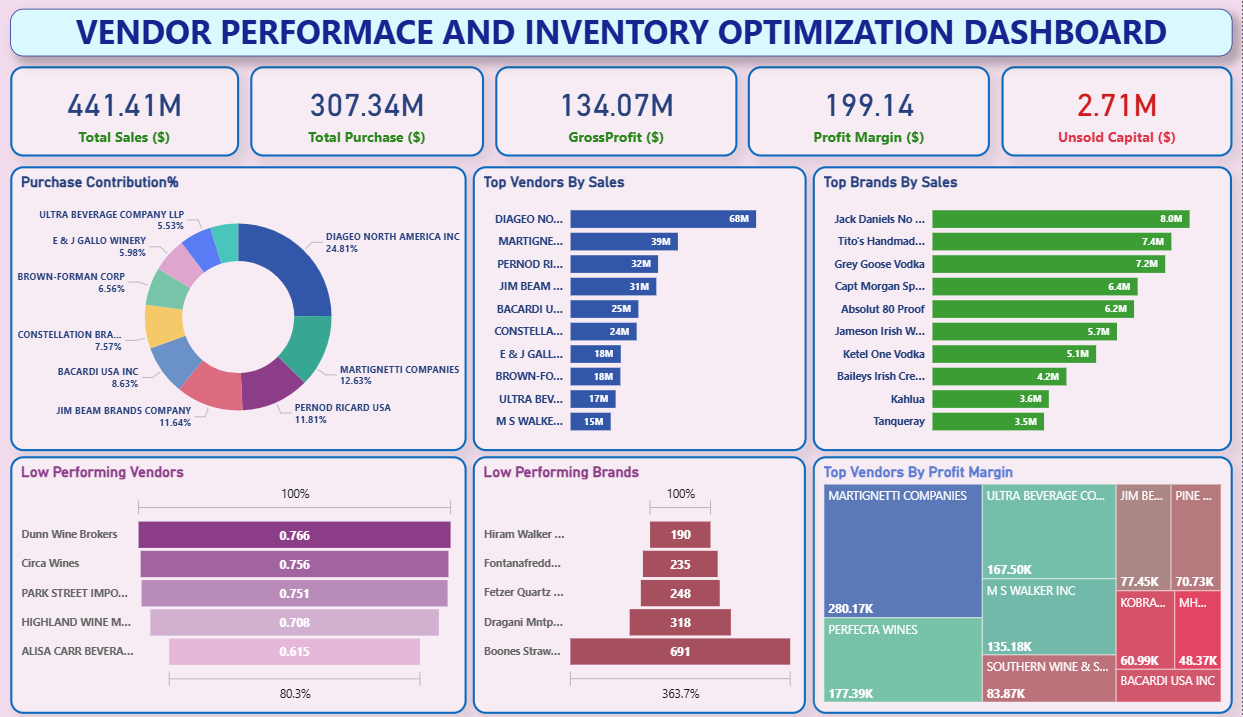

The page's visual inventory and layout, read from the dashboard file:
{"tool":"powerbi","page":{"name":"Page 1","canvas":[1420,820],"ordinal":0},"visuals":[{"type":"card","fields":{"Values":["Sum(vendor_sales_summary.TotalSalesDollars)"]},"box":[12.9,75.7,261.4,102.9],"z":0},{"type":"card","fields":{"Values":["Sum(vendor_sales_summary.TotalPurchaseDollars)"]},"box":[286.8,75.7,267.1,102.9],"z":1000},{"type":"card","fields":{"Values":["Sum(vendor_sales_summary.GrossProfit)"]},"box":[566.4,75.7,277.1,102.9],"z":2000},{"type":"card","fields":{"Values":["Avg(vendor_sales_summary.ProfitMargin)"]},"box":[856.1,75.7,277.1,102.9],"z":3000},{"type":"card","fields":{"Values":["Sum(vendor_sales_summary.UnsoldCapital)"]},"box":[1145.7,75.7,264.3,102.9],"z":4000},{"type":"donutChart","title":"Purchase Contribution%","fields":{"Category":["PurchaseContribution.VendorName"],"Y":["Sum(PurchaseContribution.PurchaseContribution%)"]},"box":[12.9,190,521.4,325.7],"z":5000},{"type":"barChart","title":"Top Vendors By Sales","fields":{"Category":["vendor_sales_summary.VendorName"],"Y":["Sum(vendor_sales_summary.TotalSalesDollars)"]},"box":[541.8,190,381.4,325.7],"z":6000},{"type":"barChart","title":"Top Brands By Sales","fields":{"Y":["Sum(vendor_sales_summary.TotalSalesDollars)"],"Category":["vendor_sales_summary.Description"]},"box":[930.7,190,479.3,325.7],"z":7000},{"type":"funnel","title":"Low Performing Vendors","fields":{"Category":["LowTurnoverVendors.VendorName"],"Y":["Sum(LowTurnoverVendors.AvgStockTurnover)"]},"box":[12.9,521.4,521.4,294.3],"z":8000},{"type":"treemap","title":"Top Vendors By Profit Margin","fields":{"Group":["vendor_sales_summary.VendorName"],"Values":["Sum(vendor_sales_summary.ProfitMargin)"]},"box":[930,521.4,480,294.3],"z":9000},{"type":"funnel","title":"Low Performing Brands","fields":{"Category":["vendor_sales_summary.Description"],"Y":["Sum(vendor_sales_summary.TotalPurchaseQuantity)"]},"box":[542,521,381,294],"z":9001},{"type":"textbox","box":[12.9,10,1397.1,54.3],"z":9002}]}

Visuals, with their boxes in screenshot pixels (x1, y1, x2, y2), scaled from the page's 1420x820 canvas onto the 1243x717 screenshot:
card - Sum(vendor_sales_summary.TotalSalesDollars): x1=11 y1=66 x2=240 y2=156
card - Sum(vendor_sales_summary.TotalPurchaseDollars): x1=251 y1=66 x2=485 y2=156
card - Sum(vendor_sales_summary.GrossProfit): x1=496 y1=66 x2=738 y2=156
card - Avg(vendor_sales_summary.ProfitMargin): x1=749 y1=66 x2=992 y2=156
card - Sum(vendor_sales_summary.UnsoldCapital): x1=1003 y1=66 x2=1234 y2=156
"Purchase Contribution%" donutChart: x1=11 y1=166 x2=468 y2=451
"Top Vendors By Sales" barChart: x1=474 y1=166 x2=808 y2=451
"Top Brands By Sales" barChart: x1=815 y1=166 x2=1234 y2=451
"Low Performing Vendors" funnel: x1=11 y1=456 x2=468 y2=713
"Top Vendors By Profit Margin" treemap: x1=814 y1=456 x2=1234 y2=713
"Low Performing Brands" funnel: x1=474 y1=456 x2=808 y2=713
textbox: x1=11 y1=9 x2=1234 y2=56
